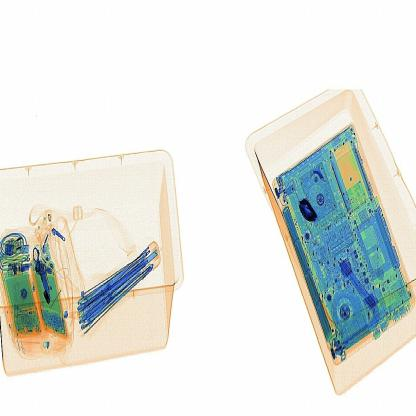scissors: (297, 194, 322, 227)
